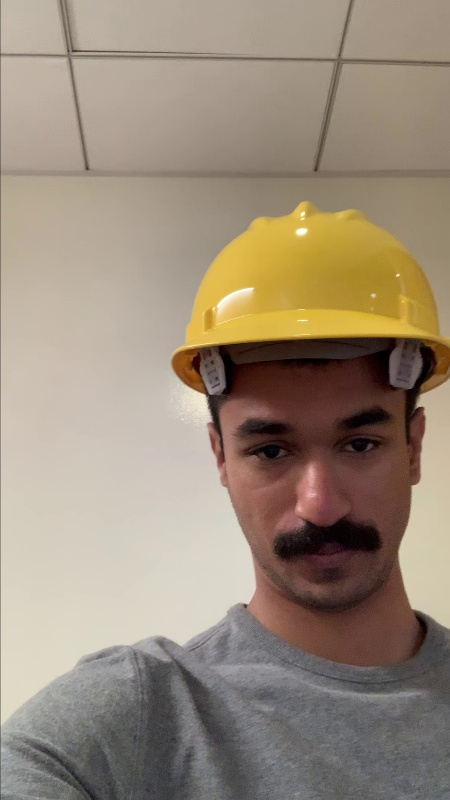helmet: (182, 203, 432, 342)
